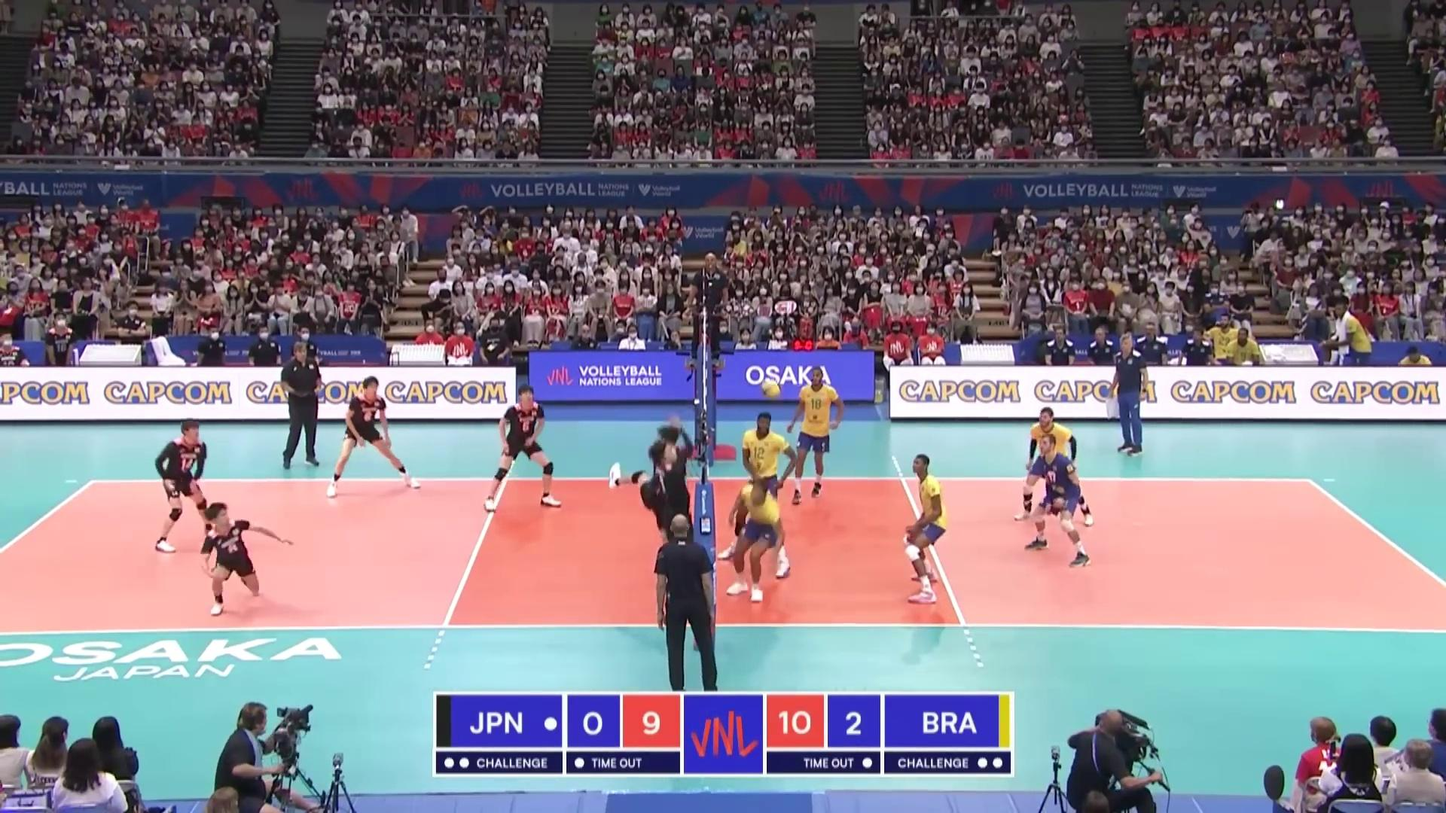player: (605, 431, 694, 572), (724, 409, 796, 578), (203, 501, 296, 616), (326, 377, 416, 493), (1015, 407, 1093, 526), (483, 385, 559, 507), (1024, 436, 1089, 568), (903, 454, 954, 605), (786, 371, 843, 506), (153, 417, 210, 548), (728, 479, 787, 604)
refree: (653, 515, 719, 691), (688, 251, 730, 371)
